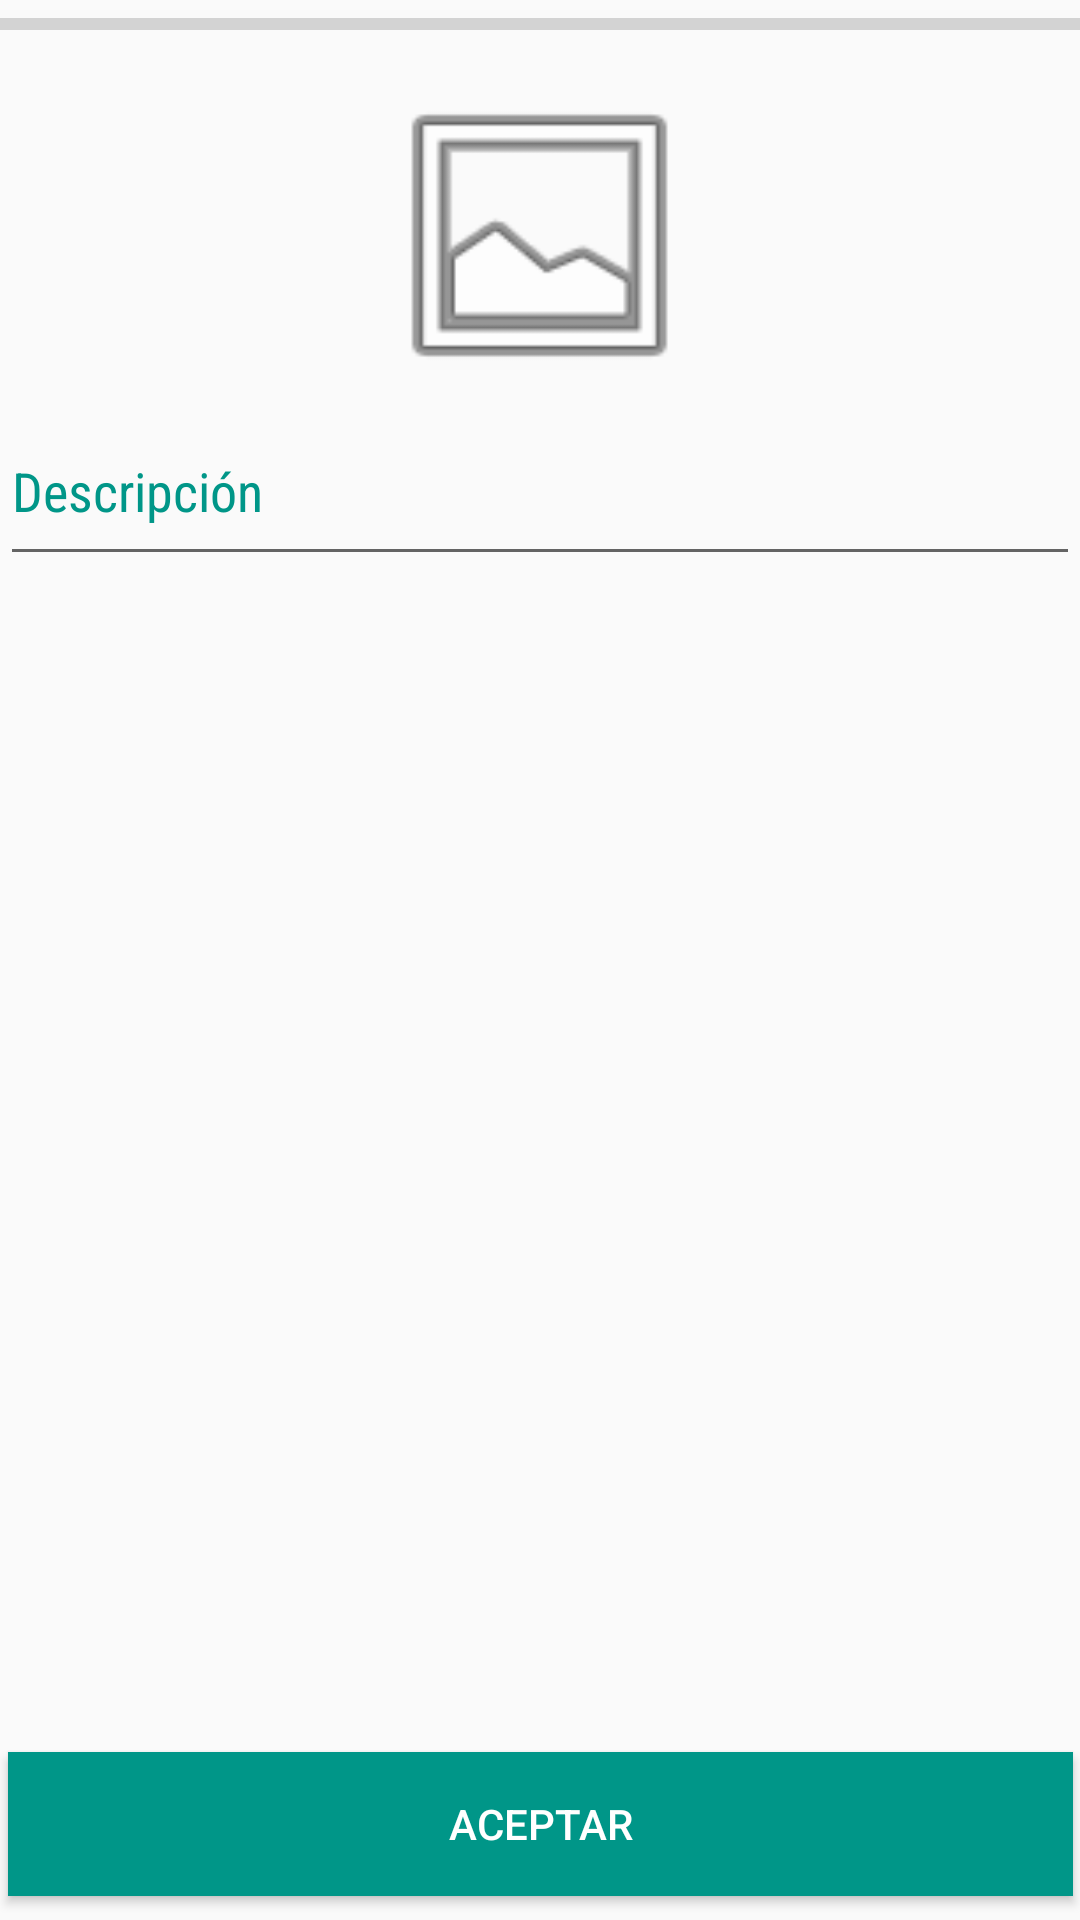

Screen size 1080×1920. Icon name, then its center in pixels as (x,y):
gallery: (539,235)
